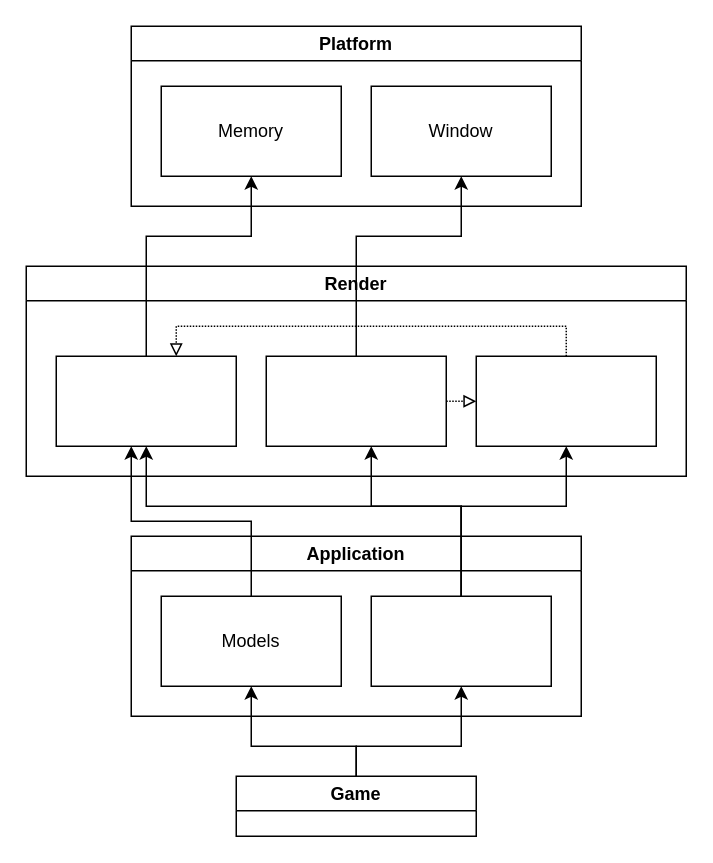
Image size: 713x863. Some labels were removed from this diagram. The shapes that lost their labels are listed below. From the top down, each one's centre as x and y in pixels, then its label:
At point 145,400: "Buffer / Image".
At point 355,400: "Pipeline".
At point 565,400: "Shader".
At point 460,640: "Materials".
